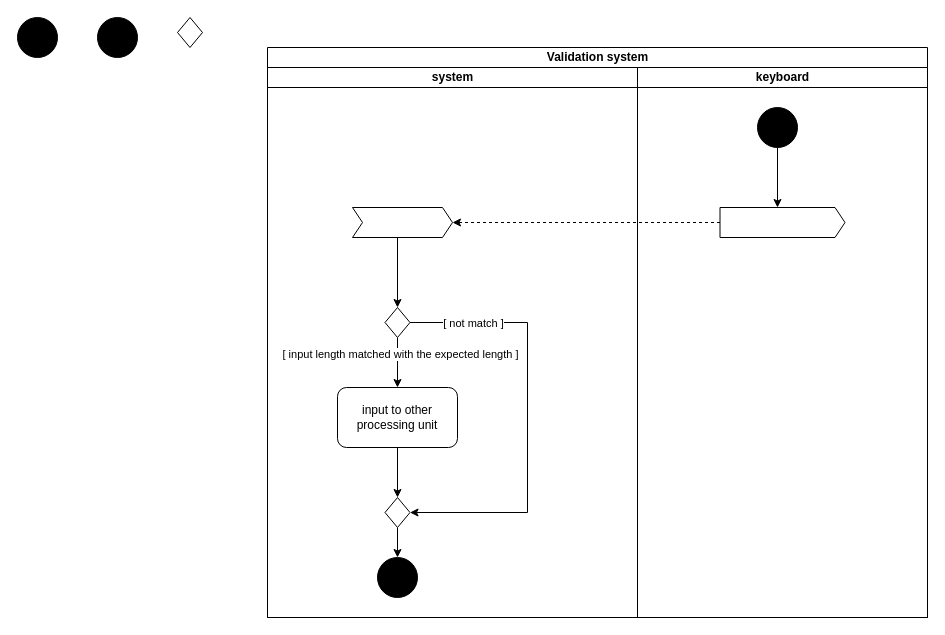
Image size: 945x635. Some labels were removed from this diagram. Each missing label, with the centre of its shape:
"input from keyboard" goes at point 782,222.
"receive result" goes at point 402,222.
